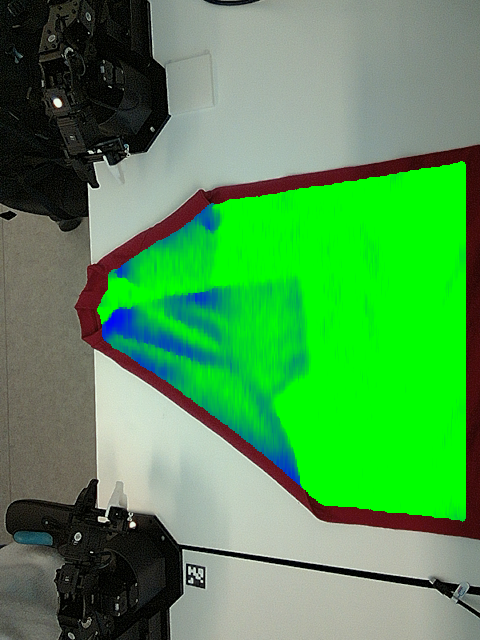V: (259, 258, 318, 309), (263, 340, 323, 383)
